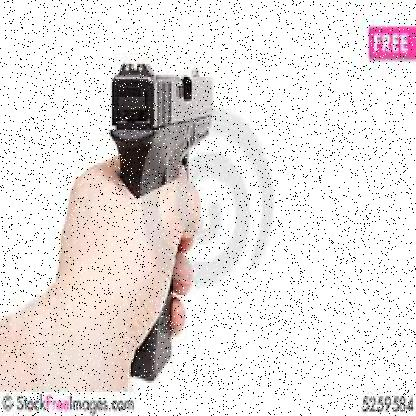pistol: (108, 55, 212, 387)
